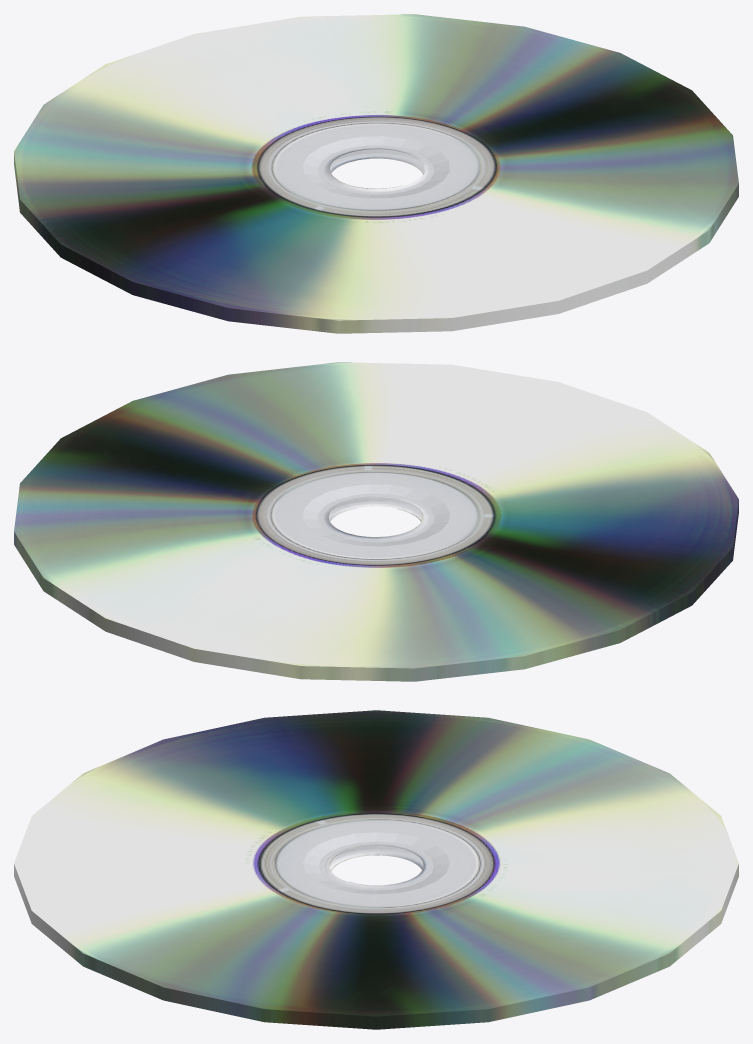
The picture shows the model from 3 angles, top to bottom: view 1: azimuth 30°, elevation 25°; view 2: azimuth 150°, elevation 25°; view 3: azimuth 270°, elevation 25°; orthographic projection.
Visible parts, largest first — view 1: Cylinder001; view 2: Cylinder001; view 3: Cylinder001.
Boxes of the visible parts, x1=… form: Cylinder001: x1=14, y1=14, x2=738, y2=333; Cylinder001: x1=14, y1=362, x2=738, y2=681; Cylinder001: x1=14, y1=710, x2=738, y2=1029.
Size of the model in its own units: 50 by 1 by 50.
